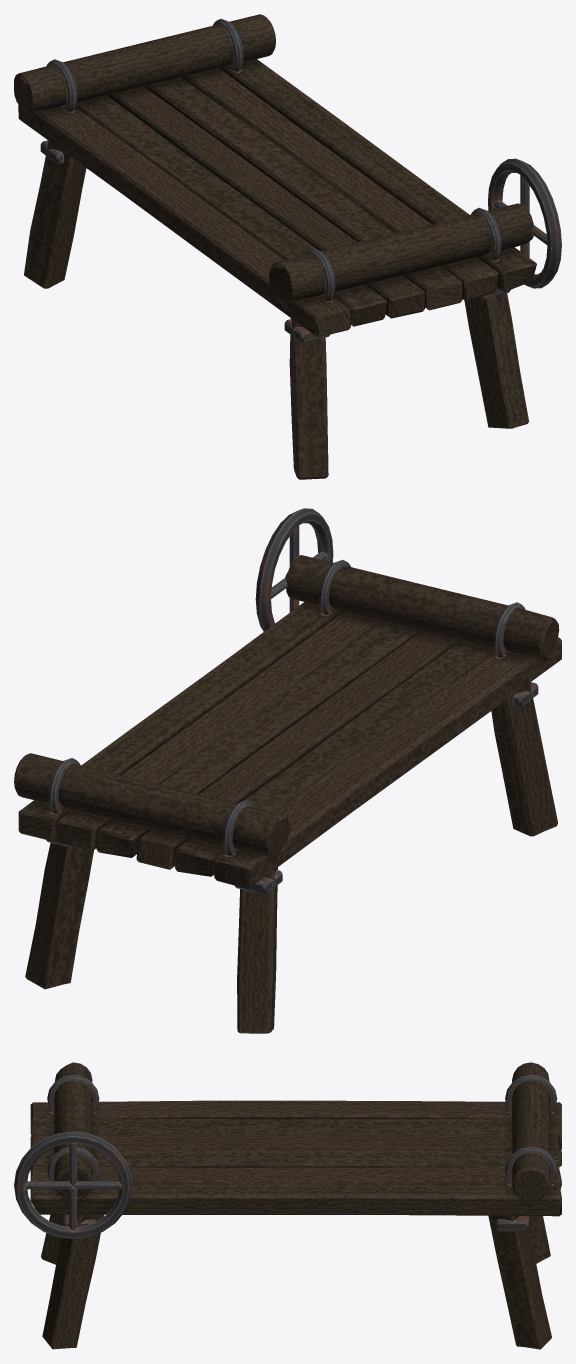
The model's file is torture_rack.glb.
3 renders of one model, top to bottom at view 1: azimuth 30°, elevation 25°; view 2: azimuth 150°, elevation 25°; view 3: azimuth 270°, elevation 25°, orthographic. The views are drawn at different scales.
Visible parts, largest first — view 1: torture_rack; view 2: torture_rack; view 3: torture_rack.
Part boxes in pixels (x1,y1,x2,y2): torture_rack: [14, 14, 561, 479]; torture_rack: [14, 508, 561, 1033]; torture_rack: [14, 1062, 561, 1349].
Size of the model in its own units: 0.8791 by 0.8509 by 1.87.
Materials: 1 (1 with a texture image).
